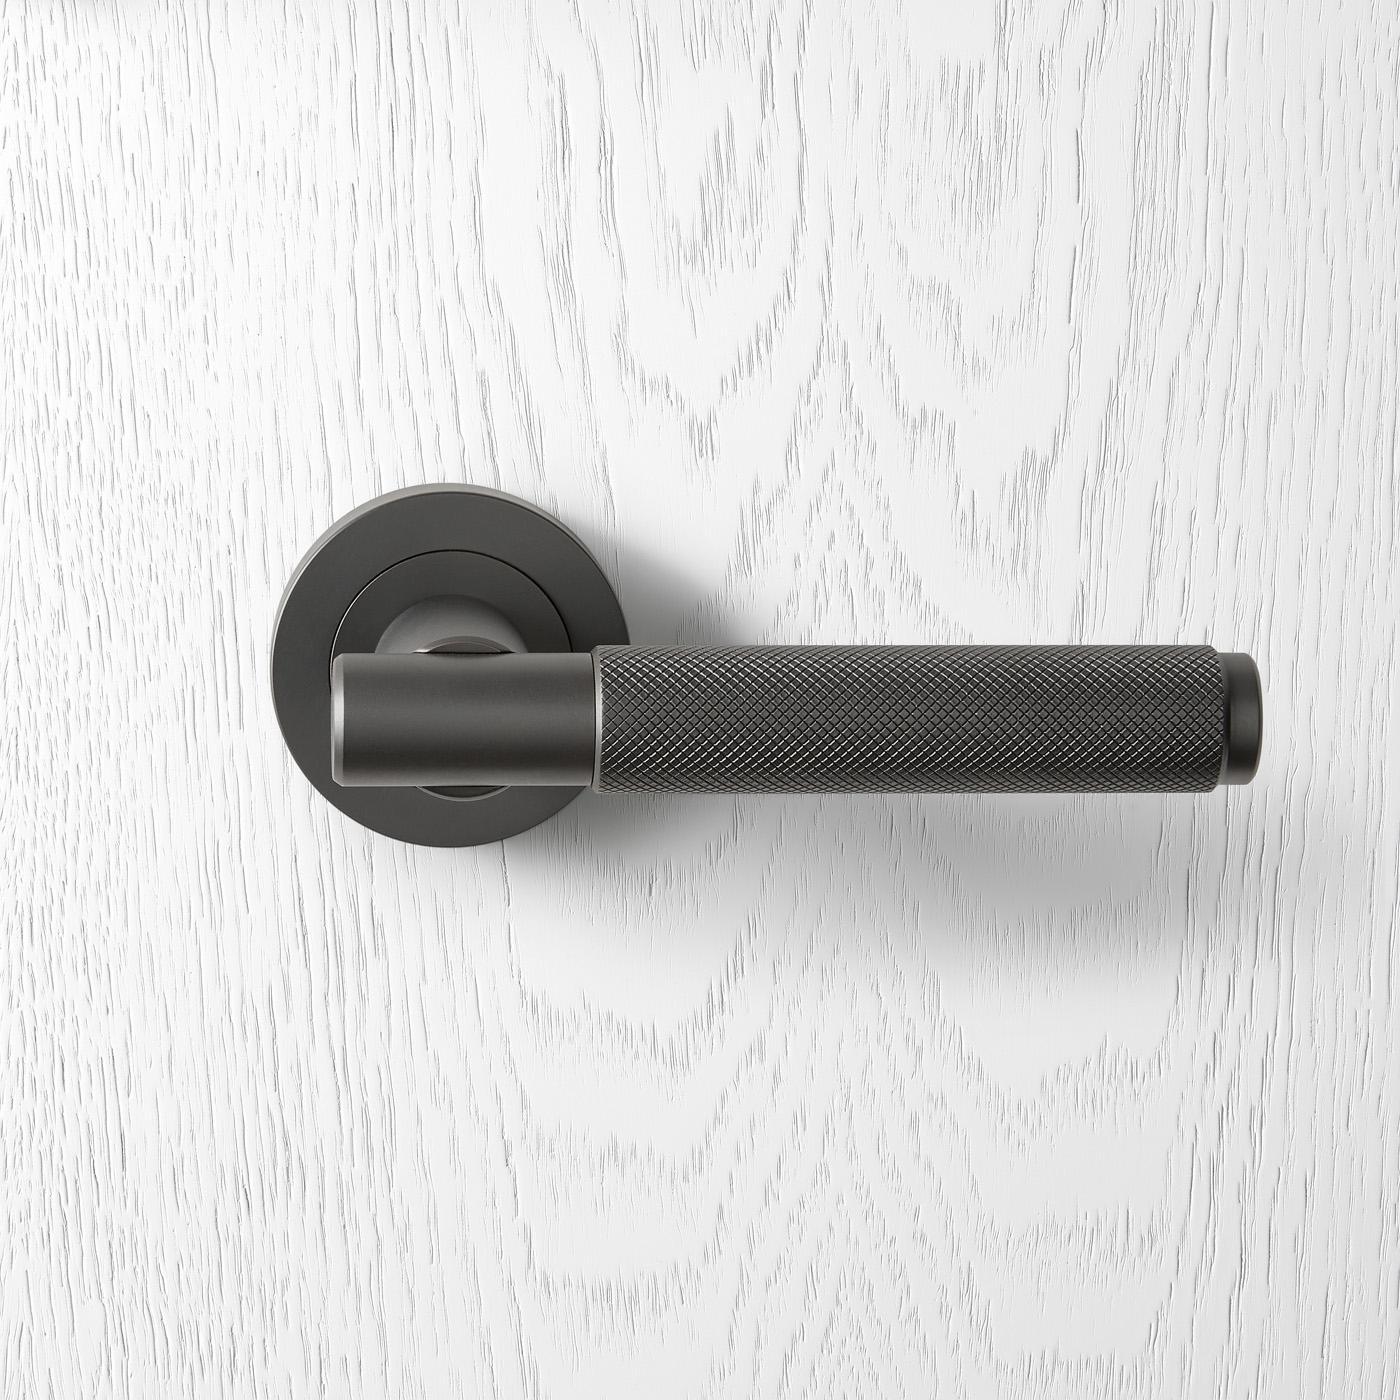doorhandle: (262, 460, 1328, 887)
